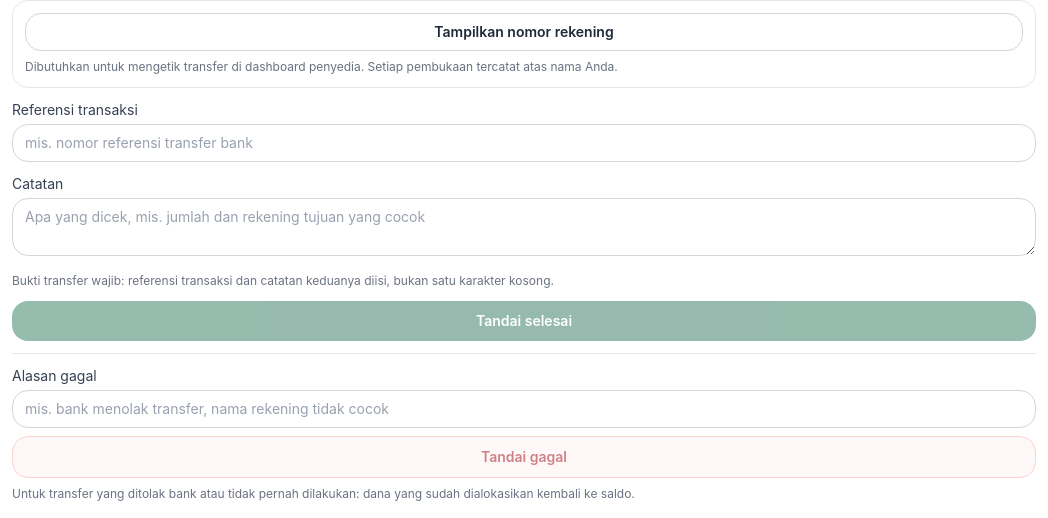
Test case: AdminPayoutActionForm -- opening the account number (ticket 89) › shows no number until asked, then posts to the reveal route and shows what it returns
Expected: the text "1234567890" is not shown
Click the button "Tampilkan nomor rekening": (524, 32) [25,13,1023,51]
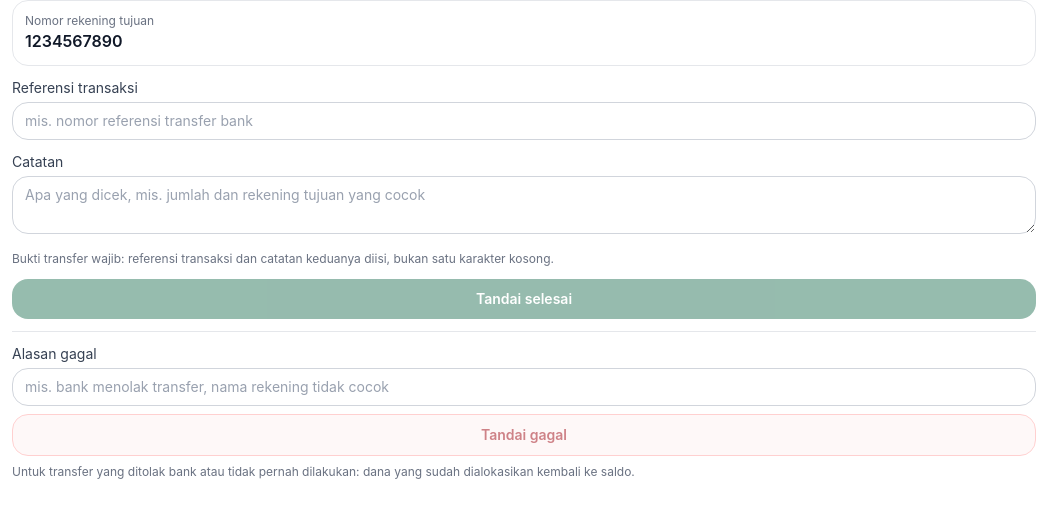
Expected: the text "1234567890" is shown, [25,31,123,51]
